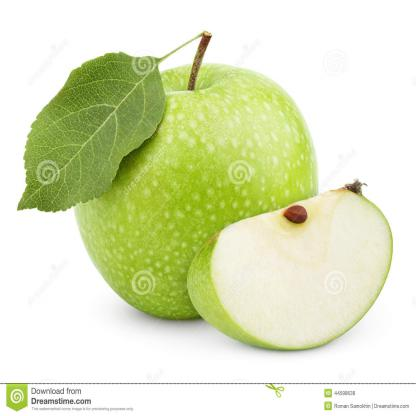apple leaf: (10, 47, 172, 214)
